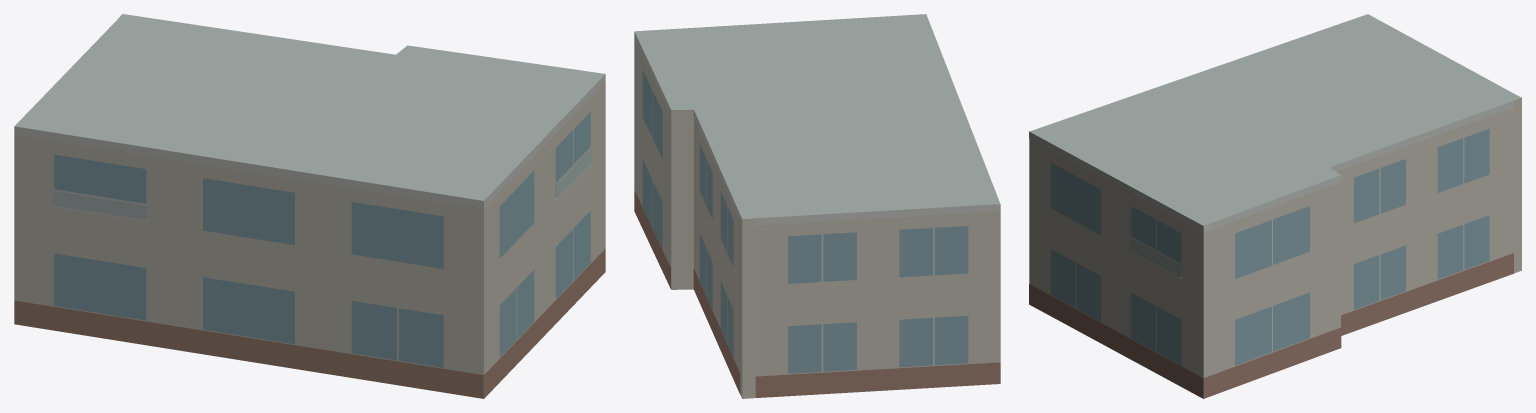
File: survey-upis-32724883.glb
The picture shows the model from 3 angles, left to right: view 1: azimuth 30°, elevation 25°; view 2: azimuth 150°, elevation 25°; view 3: azimuth 270°, elevation 25°; orthographic projection. The views are drawn at different scales.
Visible parts, largest first — view 1: survey-upis-32724883.tmp; view 2: survey-upis-32724883.tmp; view 3: survey-upis-32724883.tmp.
Part boxes in pixels (x1,y1,x2,y2): survey-upis-32724883.tmp: [14, 14, 605, 398]; survey-upis-32724883.tmp: [634, 14, 1000, 398]; survey-upis-32724883.tmp: [1029, 14, 1521, 398].
Bounding box in the file's own units: 16.05 × 6.1 × 15.76.
